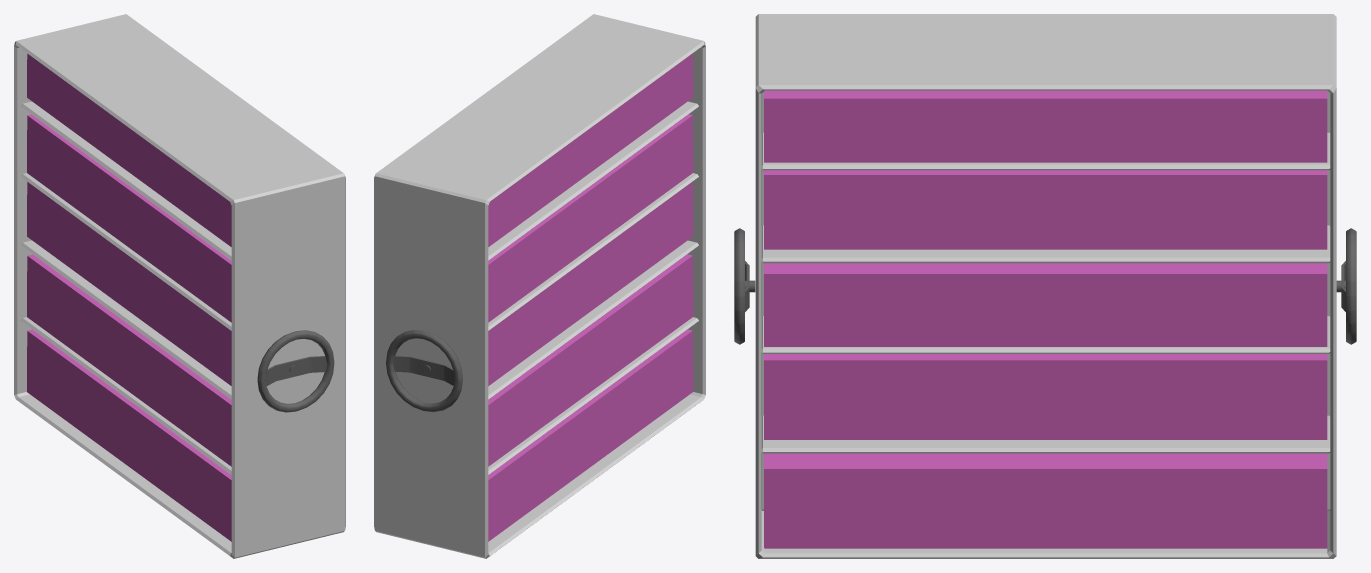
Rendered from archiveShelf.fbx.
3 renders of one model, left to right at view 1: azimuth 30°, elevation 25°; view 2: azimuth 150°, elevation 25°; view 3: azimuth 270°, elevation 25°, orthographic. The views are drawn at different scales.
Parts seen in each view (by area): view 1: ArchiveShelf_body, ArchiveShelf_wheel; view 2: ArchiveShelf_body, ArchiveShelf_wheel; view 3: ArchiveShelf_body, ArchiveShelf_wheel.
Boxes of the visible parts, box(x1,y1,x2,y2) form: ArchiveShelf_body: box(14, 14, 345, 558); ArchiveShelf_wheel: box(257, 330, 334, 412); ArchiveShelf_body: box(374, 14, 705, 558); ArchiveShelf_wheel: box(386, 330, 462, 412); ArchiveShelf_body: box(755, 14, 1336, 558); ArchiveShelf_wheel: box(734, 228, 1356, 344).
Bounding box in the file's own units: 3 × 9 × 10.71.
